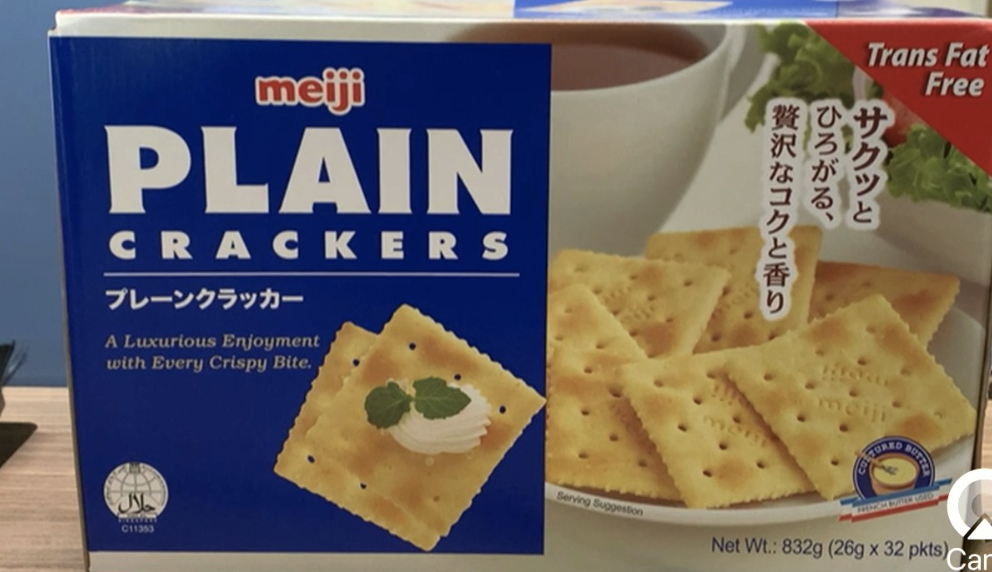crackers_550g: (93, 37, 954, 568)
